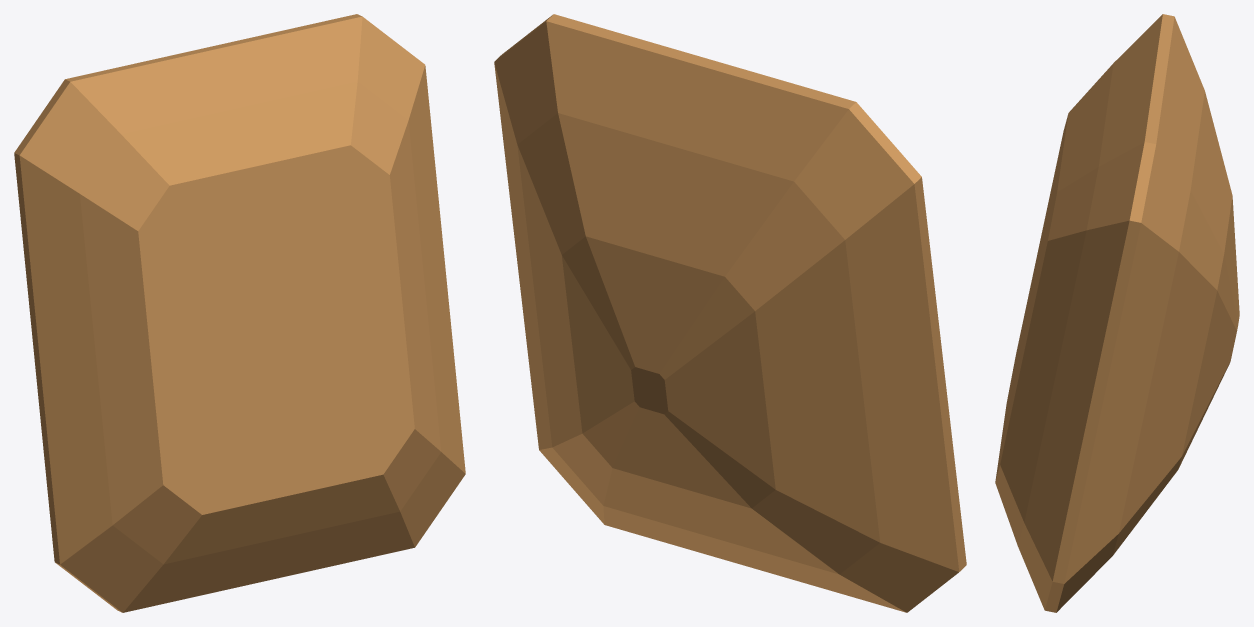
File: imperial-topaz.glb
3 views of the same model, side by side, from view 1: azimuth 30°, elevation 25°; view 2: azimuth 150°, elevation 25°; view 3: azimuth 270°, elevation 25° (orthographic). The views are drawn at different scales.
Parts seen in each view (by area): view 1: imperial-topaz; view 2: imperial-topaz; view 3: imperial-topaz.
Part boxes in pixels (x1,y1,x2,y2): imperial-topaz: (14,14,465,612); imperial-topaz: (494,14,966,612); imperial-topaz: (995,14,1239,612).
Bounding box in the file's own units: 1.92 × 2.33 × 1.09.
